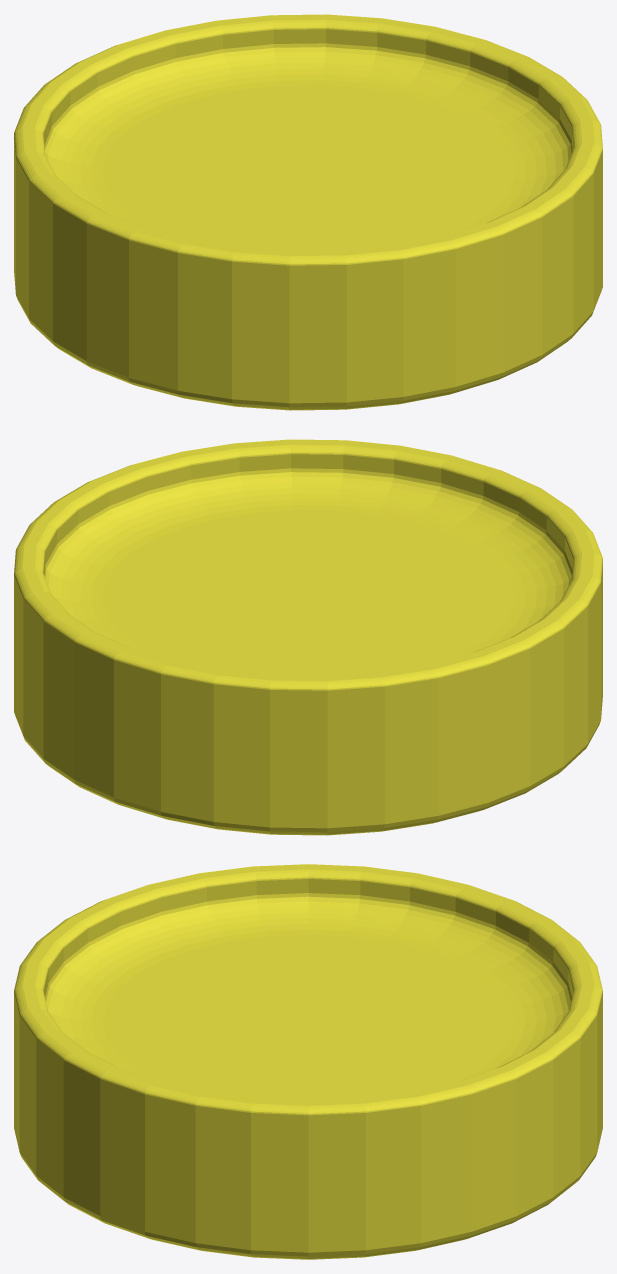
Rendered from MiniPuck.fbx.
3 views of the same model, one above another, from view 1: azimuth 30°, elevation 25°; view 2: azimuth 150°, elevation 25°; view 3: azimuth 270°, elevation 25° (orthographic).
Parts seen in each view (by area): view 1: Ground; view 2: Ground; view 3: Ground.
Boxes of the visible parts, bbox=[...] form: Ground: bbox=[14, 14, 602, 410]; Ground: bbox=[14, 439, 602, 835]; Ground: bbox=[14, 864, 602, 1259].
Size of the model in its own units: 400 by 125 by 400.
